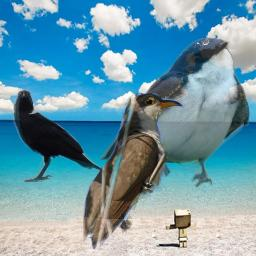Crow: (12, 89, 105, 182)
Cuckoo: (83, 93, 207, 249)
Swallow: (100, 37, 251, 188)
